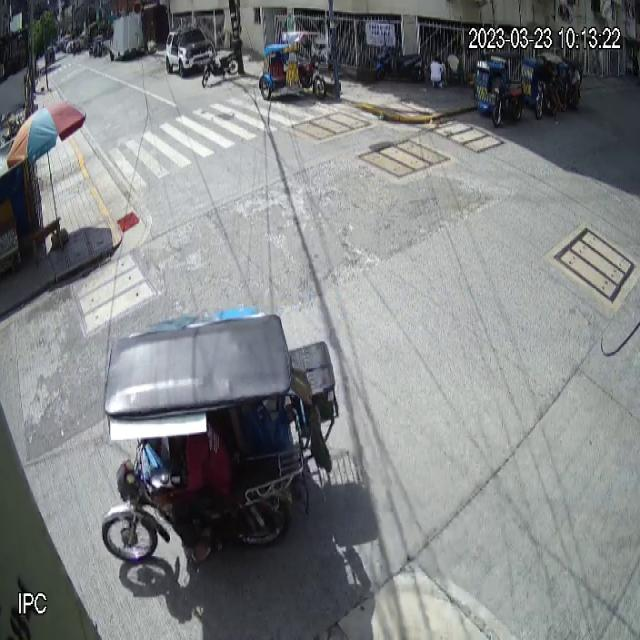Tricycle: (100, 306, 342, 572), (259, 29, 326, 102), (472, 52, 525, 129)
